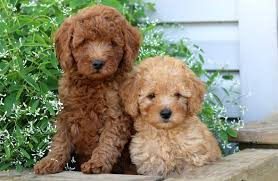Bulldog: (44, 7, 127, 161), (121, 56, 234, 169)
